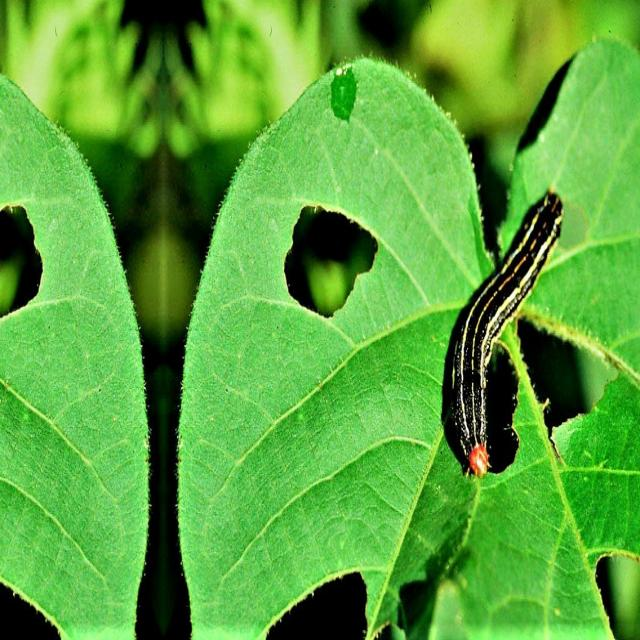Armyworm: (421, 147, 567, 509)
Armyworm_damage: (285, 184, 385, 350), (523, 314, 628, 469), (267, 533, 405, 640), (1, 181, 56, 360), (567, 514, 640, 640)
